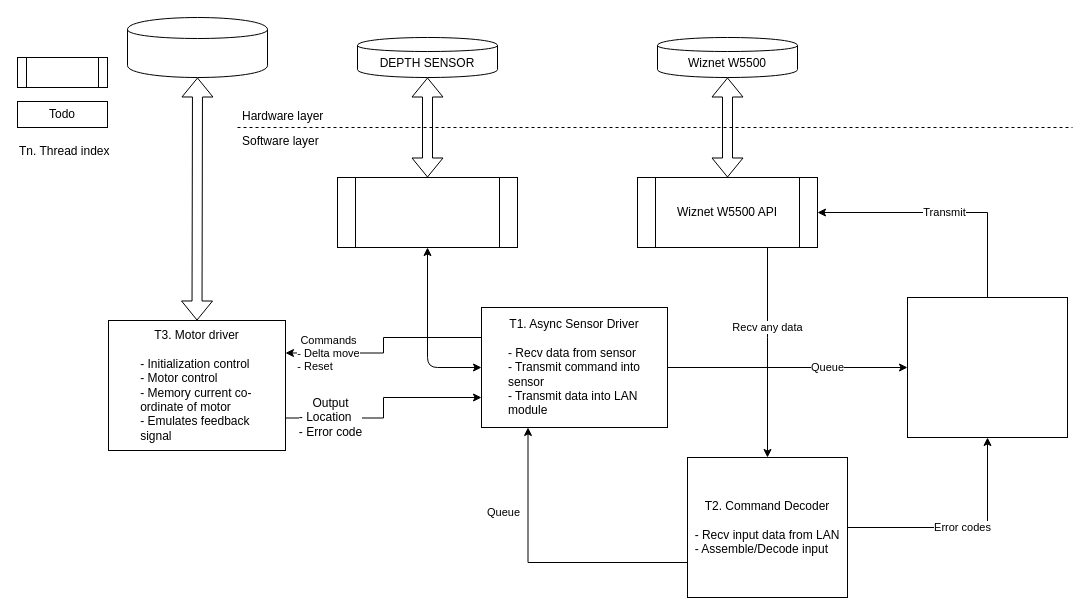
The diagram is 1091 pixels wide and 615 high, and some of its shapes have lost their labels. Each missing label, with the centre of its shape:
"APIs" goes at (x=62, y=72).
"Broadcom sensor API" goes at (x=427, y=212).
"Step motor x 2 Proximity sensor x 2" goes at (x=197, y=47).
"T2. Byte buffer - Simple byte buffer" goes at (x=987, y=367).
